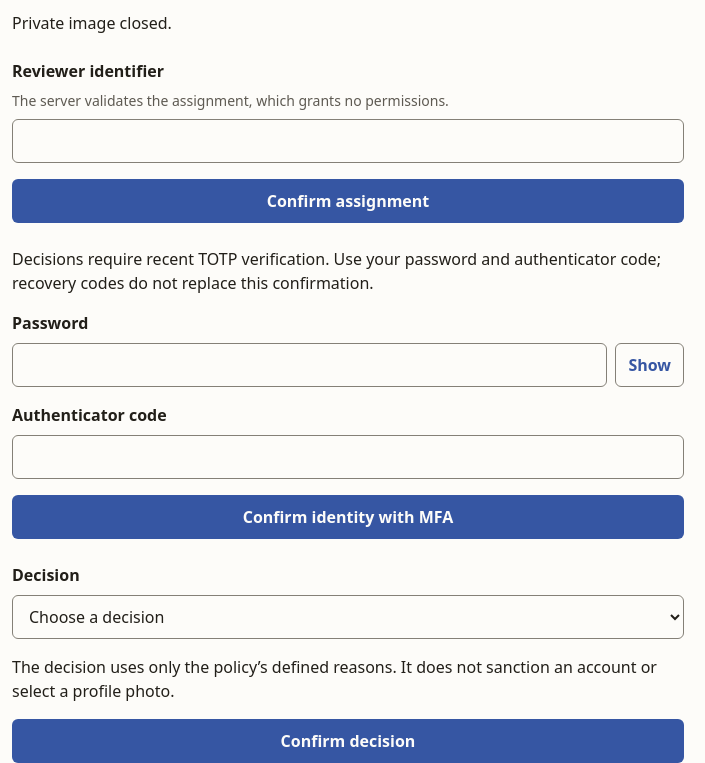
Test: private photo review UI › removes controls after a stale-version response and requires a fresh read
(page scrolled)
Select "Reject: does not meet the policy" in the dropdown labelled "Decision" at (348,617), box [12,595,684,639]
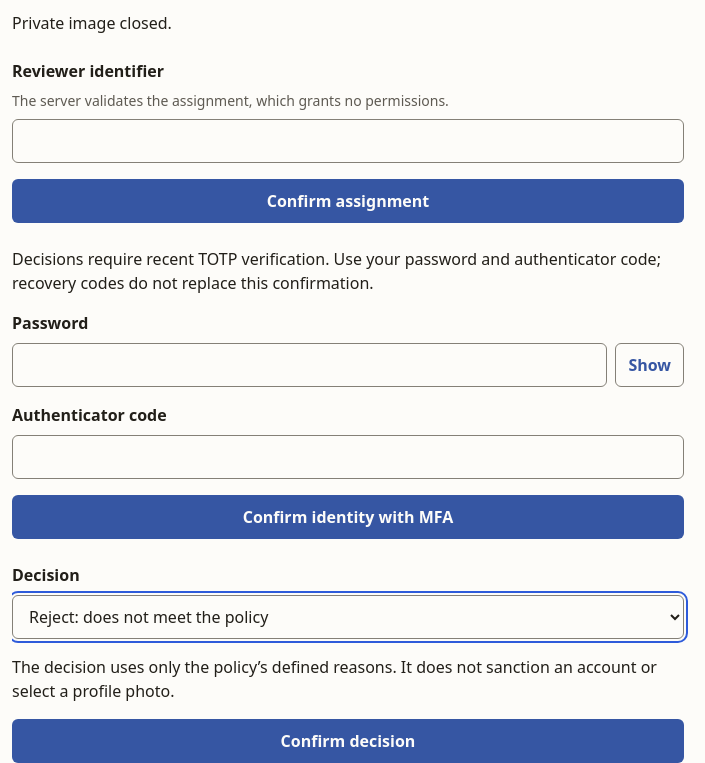
Click the button "Confirm decision" at (348,741), box [12,719,684,762]
(page scrolled)
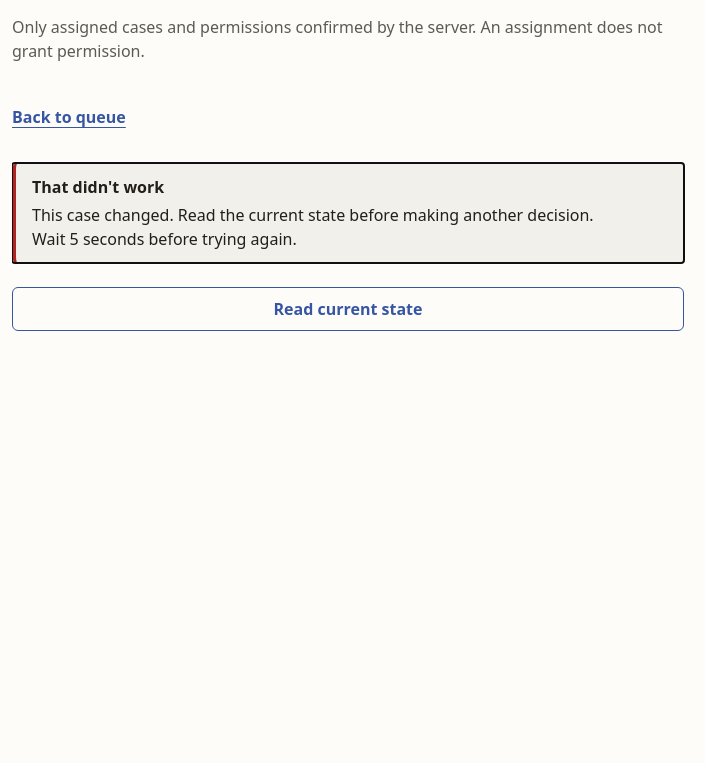
expect the text "This case changed. Read the current state before making another decision." is shown: met, box [32,203,668,227]
expect the button "Confirm decision" is gone: met
